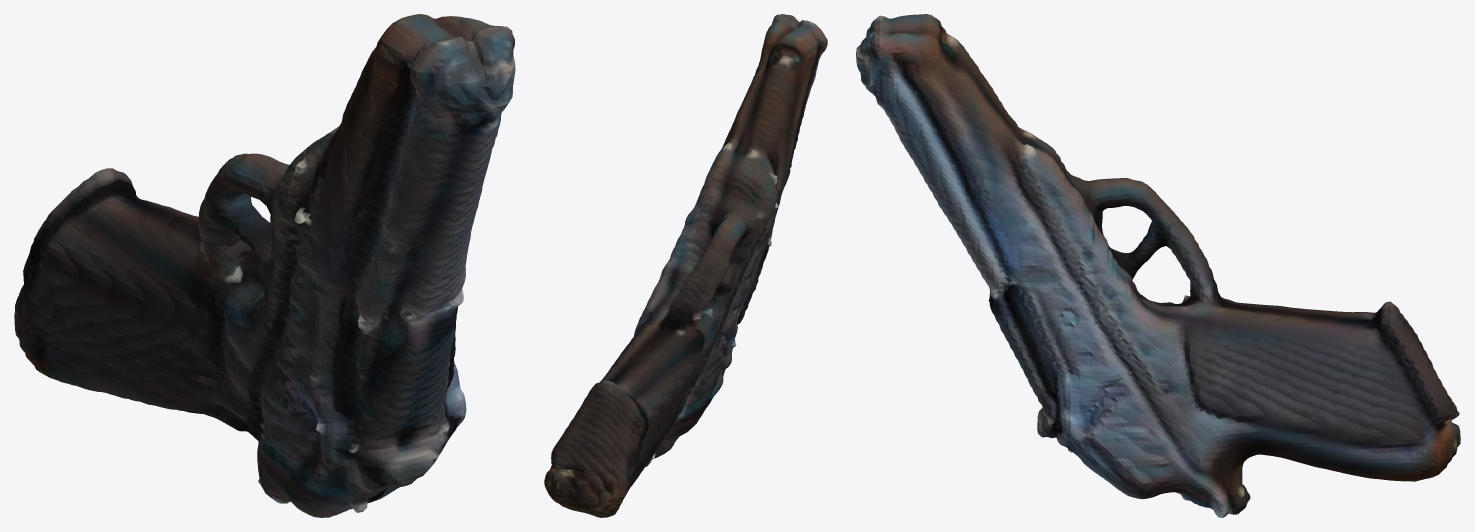
3 renders of one model, left to right at view 1: azimuth 30°, elevation 25°; view 2: azimuth 150°, elevation 25°; view 3: azimuth 270°, elevation 25°, orthographic. The views are drawn at different scales.
Bounding box in the file's own units: 0.2572 × 0.7419 × 0.8644.
